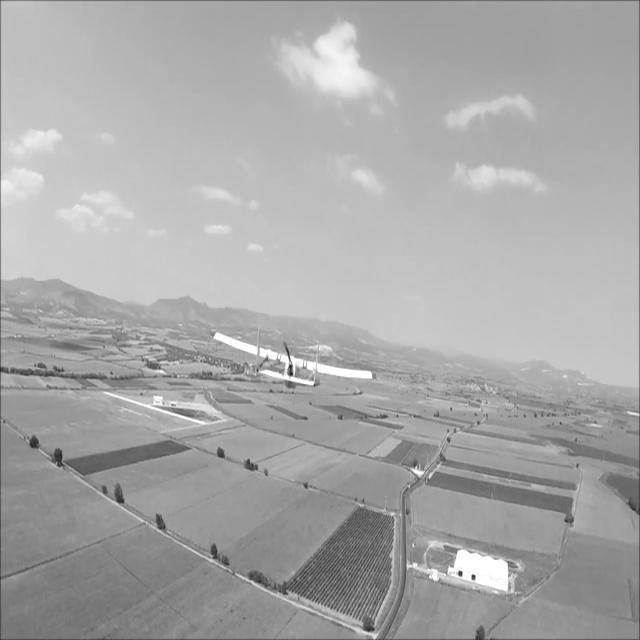iha: (207, 337, 376, 379)
